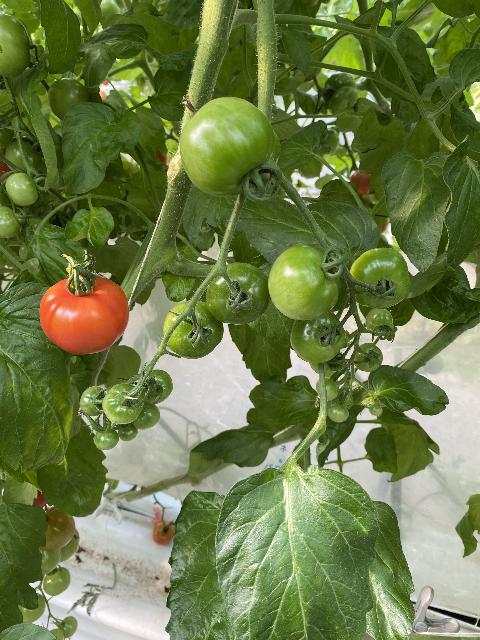l_fully_ripened: (39, 276, 129, 355)
l_green: (180, 96, 274, 198), (268, 244, 340, 321), (206, 262, 271, 325), (163, 300, 225, 363), (348, 247, 410, 309), (290, 312, 346, 364), (0, 13, 30, 78), (48, 77, 89, 121), (102, 383, 144, 424), (5, 137, 39, 175), (138, 370, 173, 404), (6, 172, 38, 206), (309, 351, 342, 378), (354, 342, 383, 372), (131, 401, 161, 430), (18, 593, 47, 623), (80, 386, 107, 416), (43, 568, 71, 596), (366, 308, 393, 335), (60, 529, 80, 562), (0, 206, 20, 238), (39, 547, 61, 574), (316, 378, 339, 401), (94, 429, 119, 450), (328, 404, 349, 423), (119, 422, 138, 441), (369, 404, 382, 415)
l_half_ripened: (40, 507, 76, 549)
